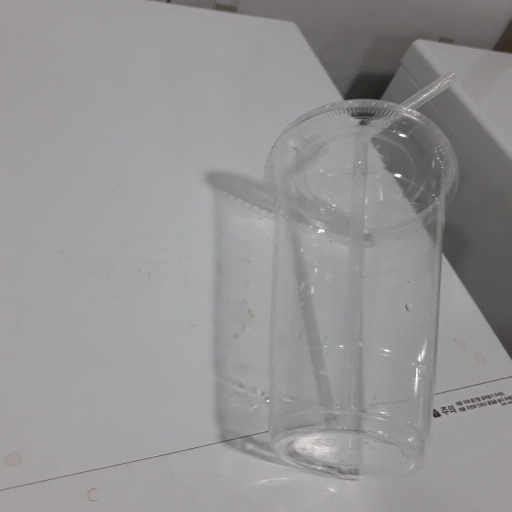Plastic_2: (268, 70, 459, 486)
